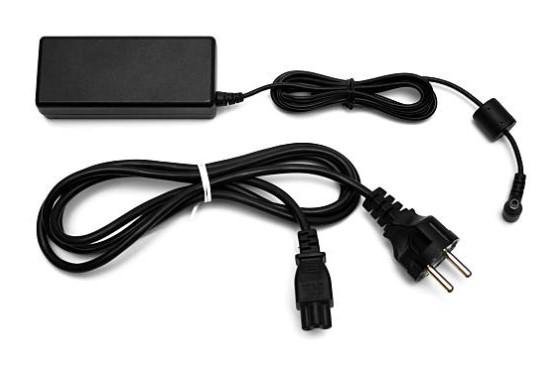cable: (36, 36, 526, 221), (37, 143, 472, 330)
